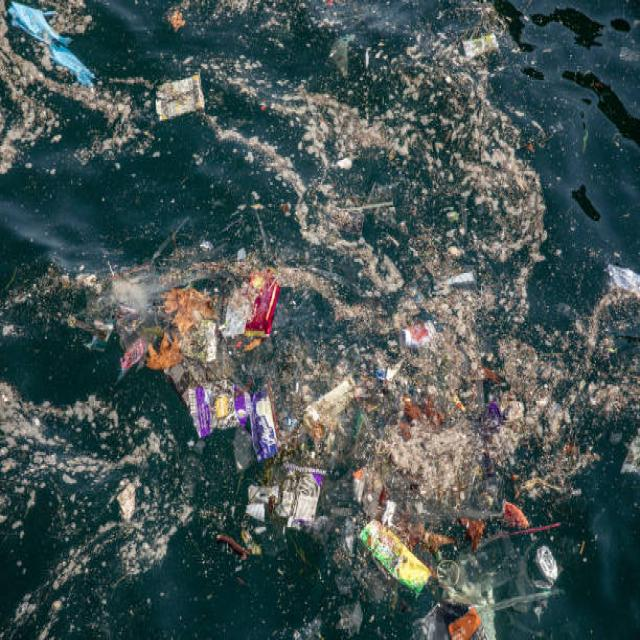trash: (11, 31, 546, 568)
